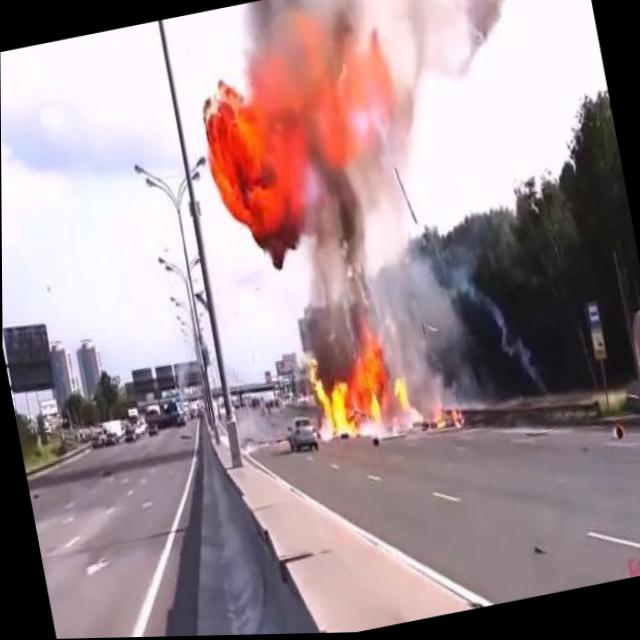fire: (181, 5, 368, 261), (294, 300, 467, 464)
